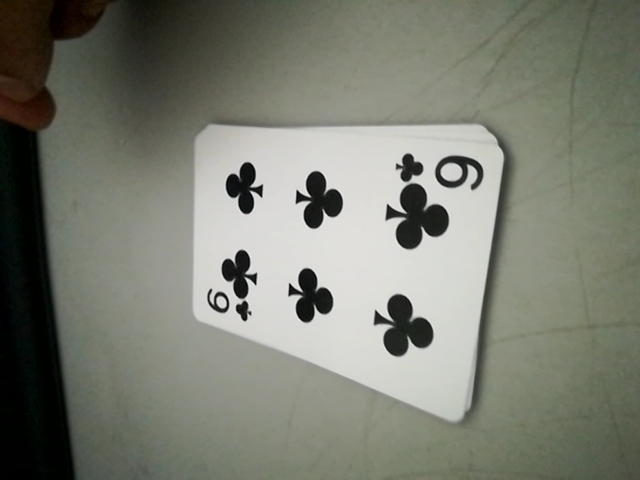mh 6: (394, 149, 490, 191), (201, 282, 249, 328)
